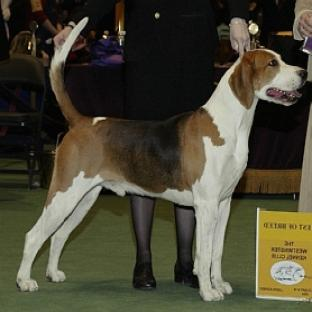Animal: (18, 17, 305, 300)
